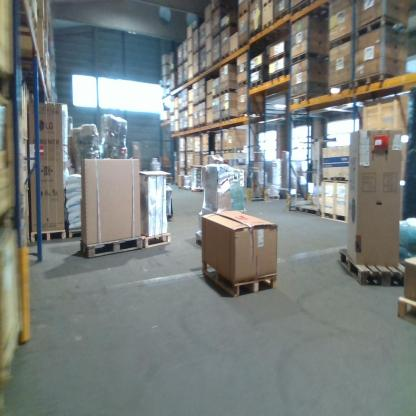pallet: (201, 259, 278, 299), (339, 247, 405, 286), (75, 236, 142, 260), (355, 15, 407, 39), (353, 71, 400, 90), (291, 50, 326, 66), (194, 226, 212, 256), (30, 228, 66, 243), (328, 31, 356, 50), (289, 92, 326, 106), (398, 297, 416, 324), (327, 79, 354, 97), (320, 210, 348, 224), (291, 0, 315, 16), (269, 68, 289, 85), (274, 7, 290, 27), (250, 78, 274, 91), (268, 51, 290, 65), (238, 111, 266, 121), (248, 62, 269, 75), (320, 175, 349, 184), (220, 86, 237, 98), (212, 3, 229, 15), (221, 20, 237, 32), (261, 19, 274, 33), (250, 29, 262, 43), (222, 148, 250, 154), (237, 8, 249, 21), (238, 39, 249, 52), (237, 79, 250, 90), (221, 115, 241, 122), (267, 194, 281, 202), (220, 52, 230, 63), (212, 31, 221, 43), (262, 0, 272, 10), (212, 55, 221, 66), (191, 187, 204, 194), (229, 47, 238, 57), (212, 91, 221, 100), (202, 149, 211, 156), (213, 118, 221, 125), (214, 148, 223, 154), (193, 101, 200, 108), (206, 106, 214, 112), (199, 99, 207, 105), (206, 63, 212, 71), (193, 151, 202, 156), (206, 91, 213, 97), (199, 121, 206, 127), (185, 150, 194, 154), (189, 76, 194, 83), (187, 50, 193, 55), (187, 36, 192, 42), (188, 63, 193, 68)
